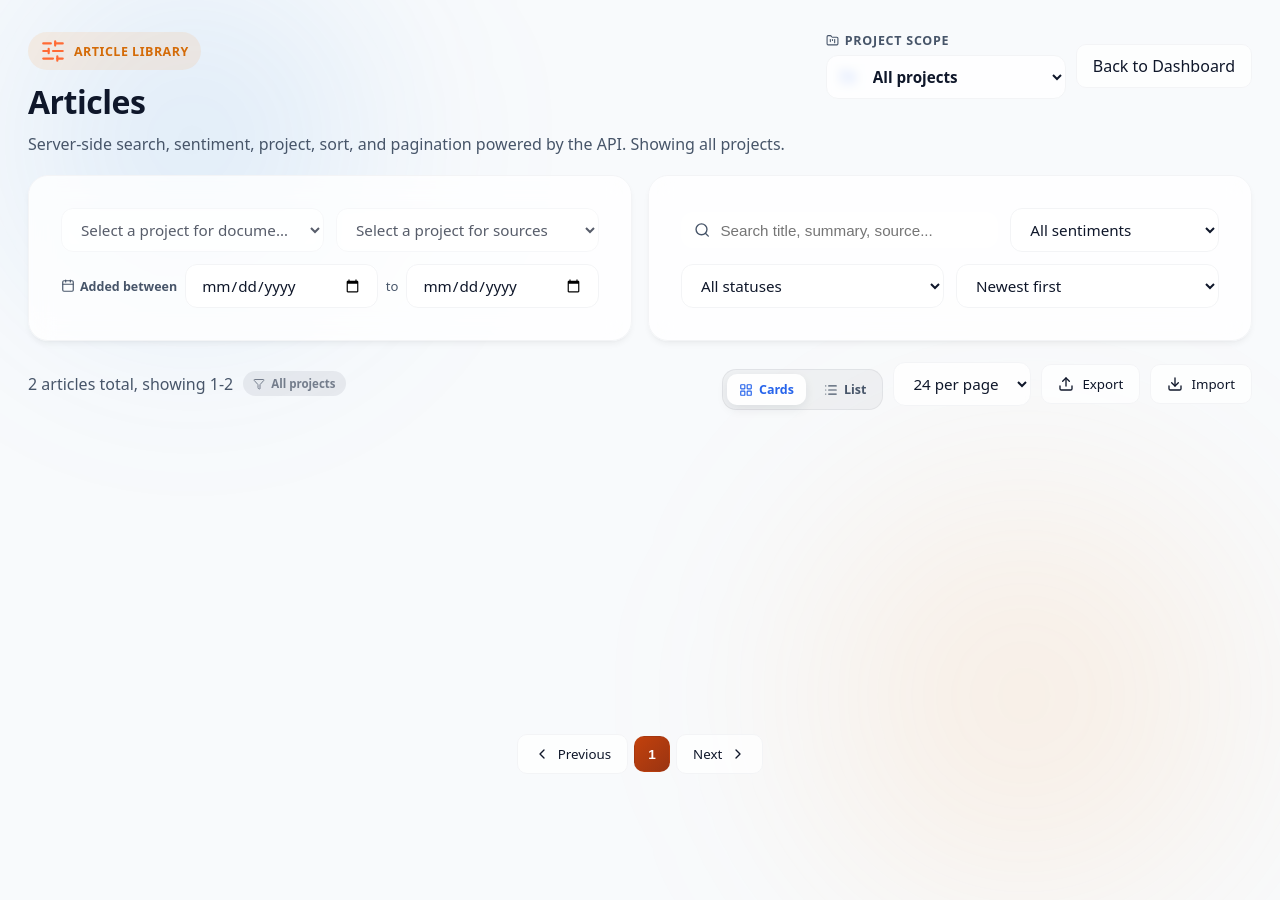
Scenario: ArticlesPage › offers removal scoped to the selected project, and opens its confirmation
Select "Riverside (active)" in the dropdown named "Project scope for articles" at (946, 77), box [826,55,1066,99]
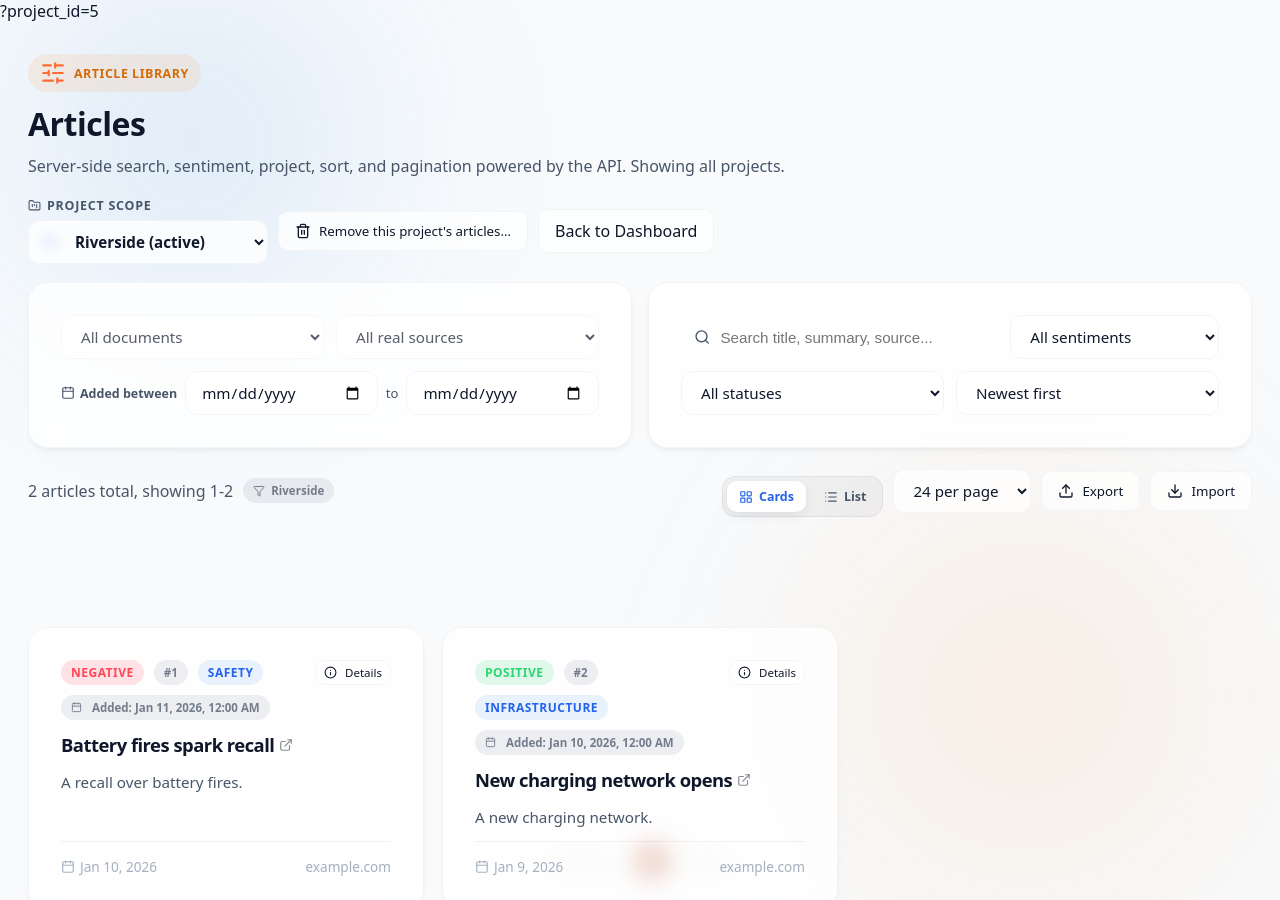
Click the button "Remove this project's articles…".
click(403, 231)  # box [278,211,528,251]
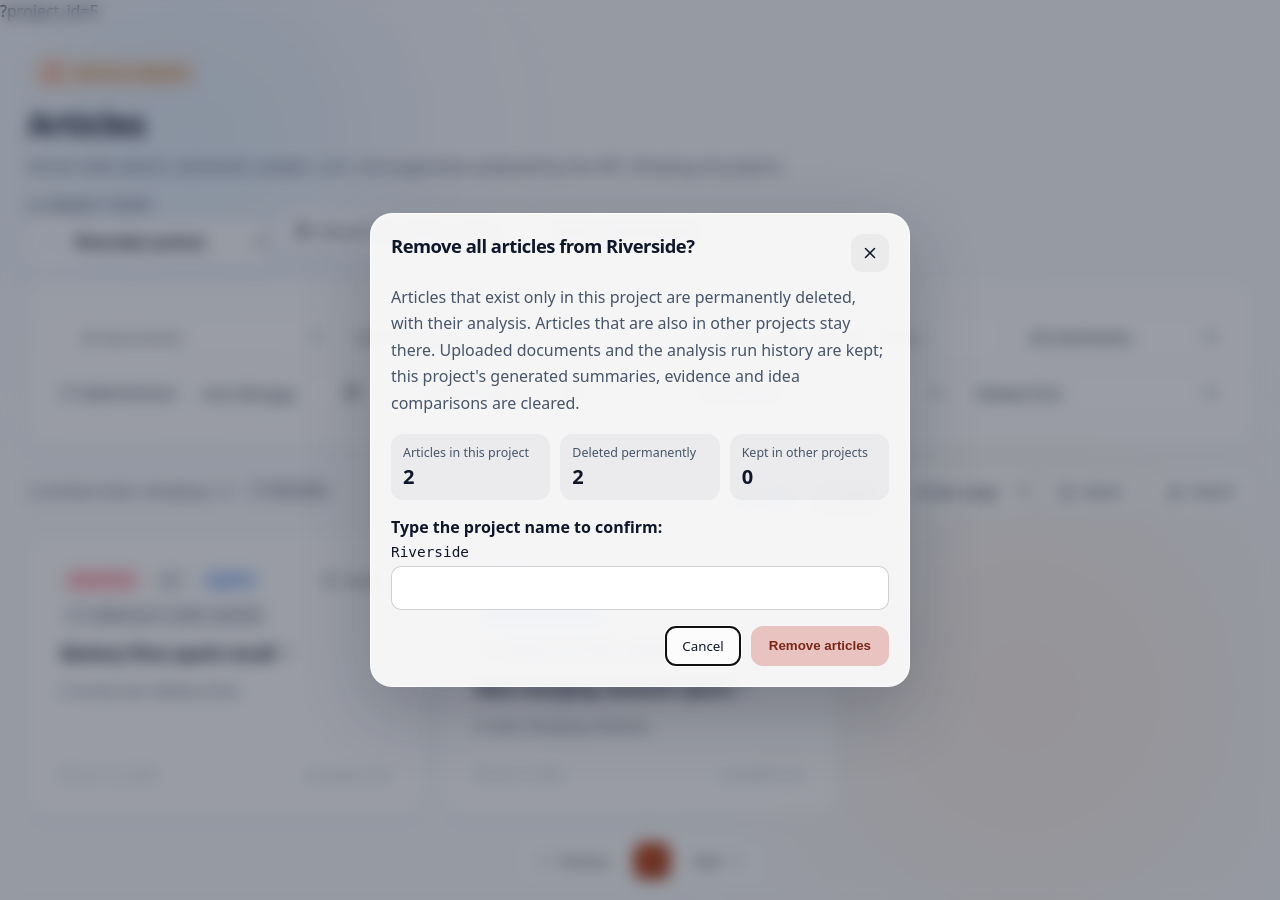
Check: the dialog "Remove all articles from Riverside?" is shown, box [370,213,910,687]
Check: the text "2" below "Articles in this project" is shown, box [403,463,414,490]
